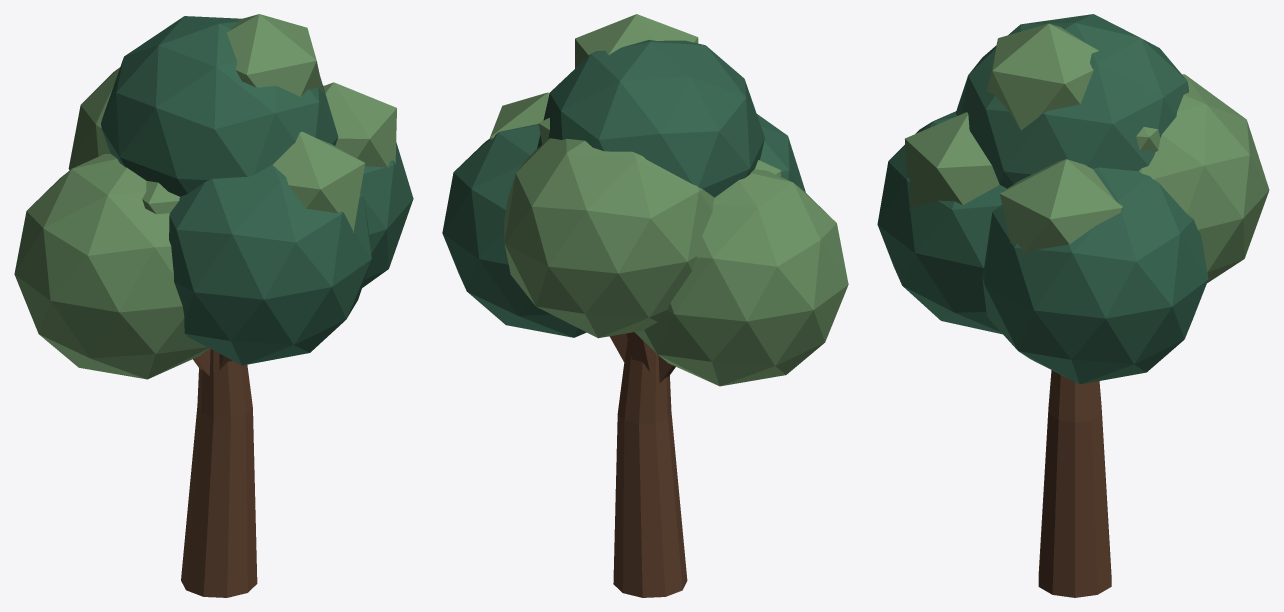
Rendered from PirateCove_SeaGrape_Showcase.glb.
The picture shows the model from 3 angles, left to right: view 1: azimuth 30°, elevation 25°; view 2: azimuth 150°, elevation 25°; view 3: azimuth 270°, elevation 25°; orthographic projection. The views are drawn at different scales.
Parts seen in each view (by area): view 1: PirateCove_SeaGrape_Showcase; view 2: PirateCove_SeaGrape_Showcase; view 3: PirateCove_SeaGrape_Showcase.
Part boxes in pixels (<box>): PirateCove_SeaGrape_Showcase: <box>14,14,413,597</box>; PirateCove_SeaGrape_Showcase: <box>442,14,848,597</box>; PirateCove_SeaGrape_Showcase: <box>877,14,1269,597</box>.
Bounding box in the file's own units: 2.5 × 3.61 × 2.24.
